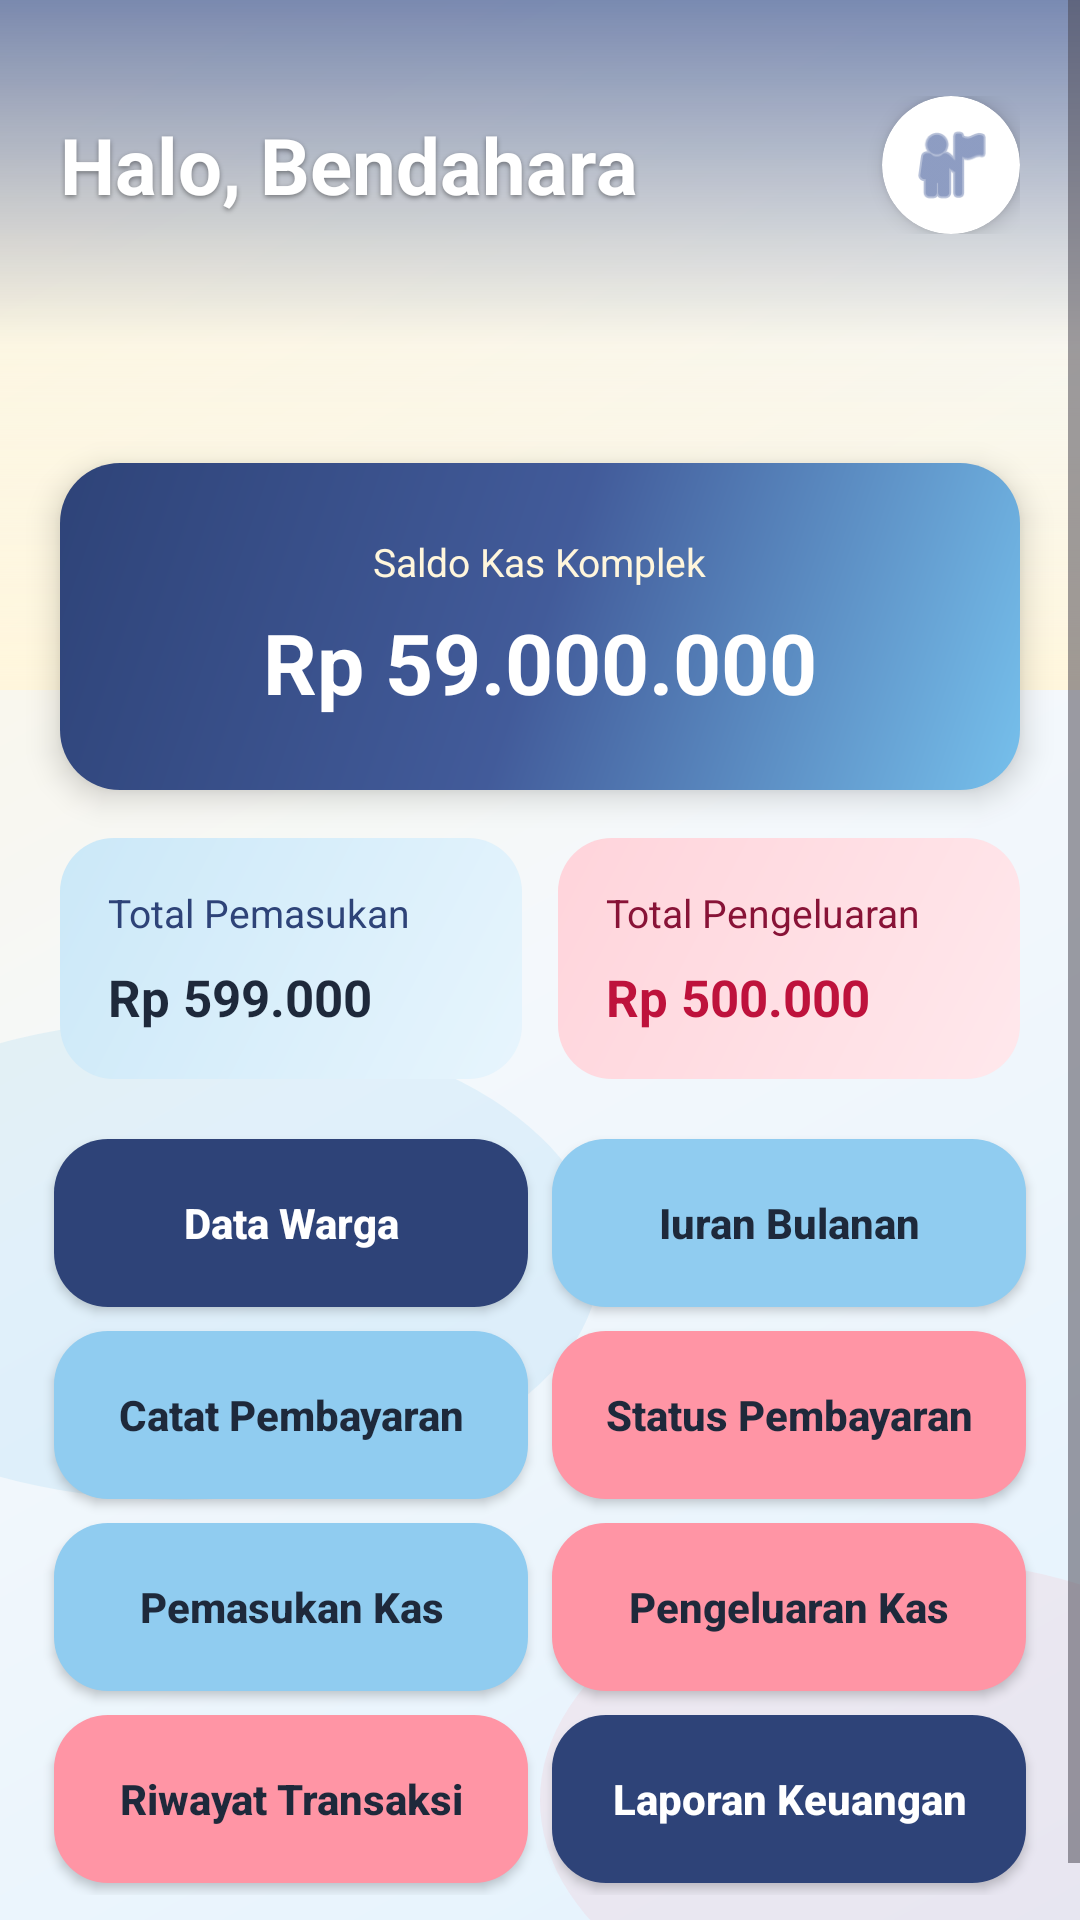

Icons on this 1080w x 1920h Android screen, each with the point to tap as point (x, y):
Profil: point (951, 165)
